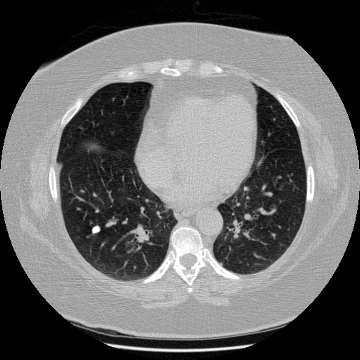nodule: (92, 225, 100, 233)
